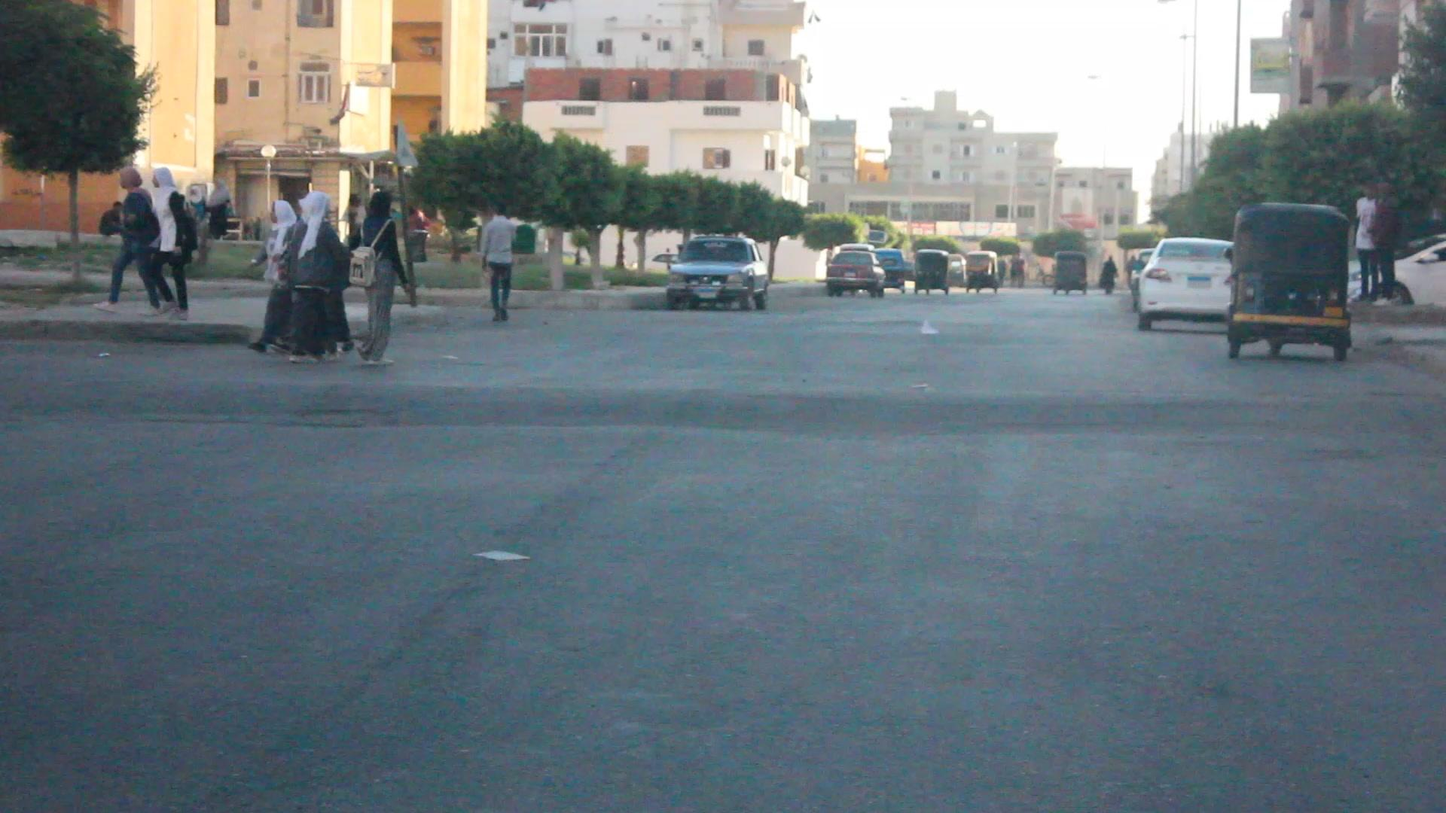Bump: (0, 369, 1445, 444)
